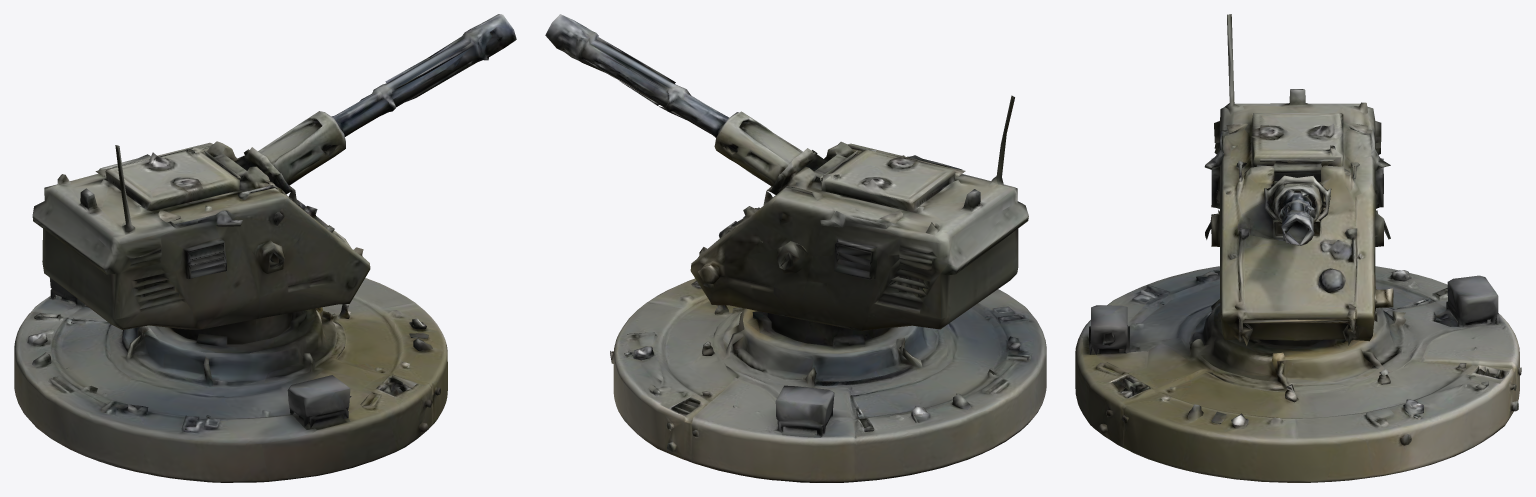
The model's file is tr2_cannon.glb.
3 renders of one model, left to right at view 1: azimuth 30°, elevation 25°; view 2: azimuth 150°, elevation 25°; view 3: azimuth 270°, elevation 25°, orthographic.
Parts seen in each view (by area): view 1: tripo_node_b061f9ac-65ad-406e-8ab9-6512cb7df1ec; view 2: tripo_node_b061f9ac-65ad-406e-8ab9-6512cb7df1ec; view 3: tripo_node_b061f9ac-65ad-406e-8ab9-6512cb7df1ec.
Part boxes in pixels (x1,y1,x2,y2): tripo_node_b061f9ac-65ad-406e-8ab9-6512cb7df1ec: [14, 14, 516, 482]; tripo_node_b061f9ac-65ad-406e-8ab9-6512cb7df1ec: [545, 14, 1046, 482]; tripo_node_b061f9ac-65ad-406e-8ab9-6512cb7df1ec: [1075, 14, 1521, 482].
Size of the model in its own units: 0.9808 by 0.6225 by 0.8095.
1 material, 1 textured.
